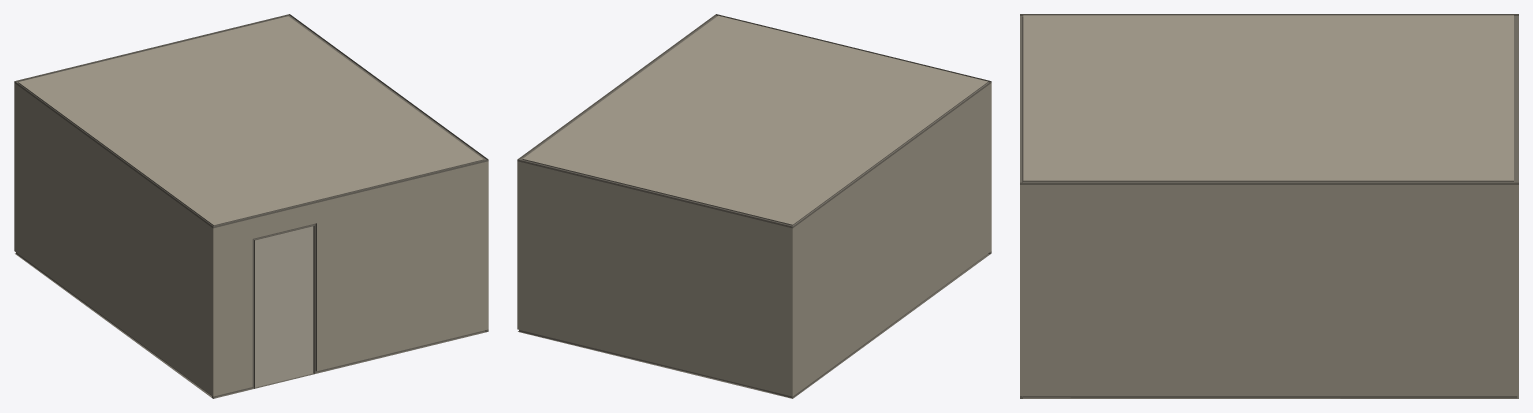
File: Bedroom_01.fbx
3 views of the same model, side by side, from view 1: azimuth 30°, elevation 25°; view 2: azimuth 150°, elevation 25°; view 3: azimuth 270°, elevation 25° (orthographic). The views are drawn at different scales.
Visible parts, largest first — view 1: RoomInterior; view 2: RoomInterior; view 3: RoomInterior.
Part boxes in pixels (x1,y1,x2,y2): RoomInterior: (14,14,488,398); RoomInterior: (517,14,991,398); RoomInterior: (1020,14,1518,398).
Size of the model in its own units: 400 by 239 by 500.
